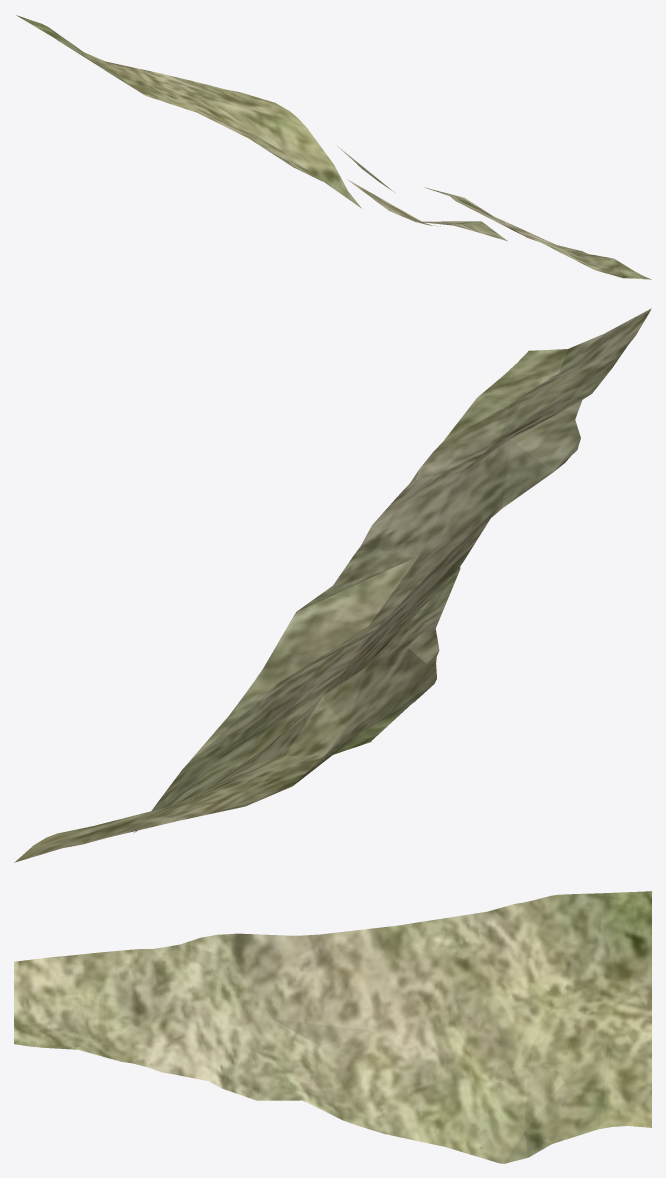
The picture shows the model from 3 angles, top to bottom: view 1: azimuth 30°, elevation 25°; view 2: azimuth 150°, elevation 25°; view 3: azimuth 270°, elevation 25°; orthographic projection. The views are drawn at different scales.
Bounding box in the file's own units: 1.18 × 0.8409 × 2.95.
Materials: 1 (1 with a texture image).
